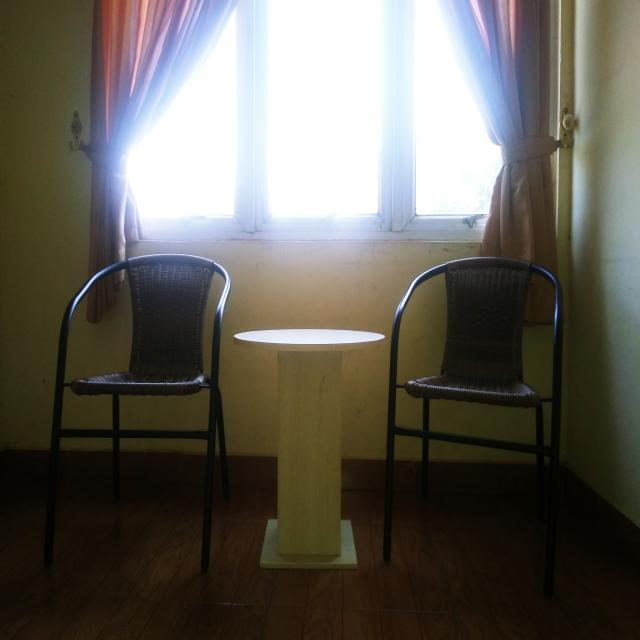Chair: (367, 245, 582, 604), (34, 249, 235, 585)
